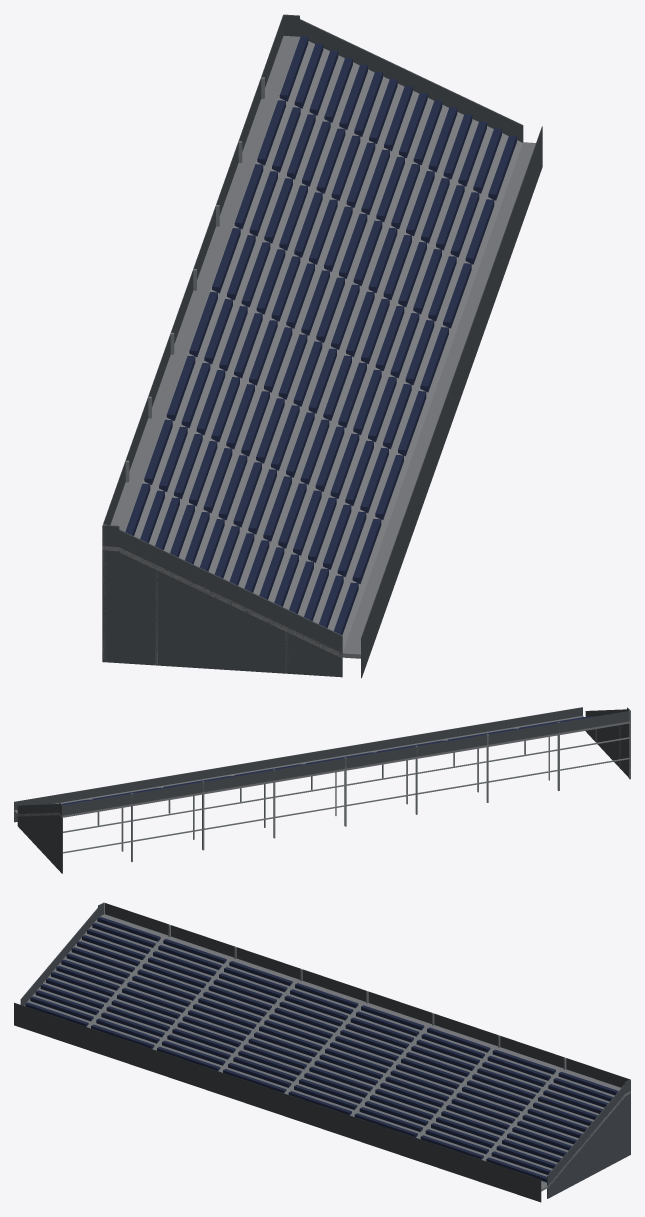
The model's file is sil_stand_hamilton_b1.glb.
The picture shows the model from 3 angles, top to bottom: view 1: azimuth 30°, elevation 25°; view 2: azimuth 150°, elevation 25°; view 3: azimuth 270°, elevation 25°; orthographic projection. The views are drawn at different scales.
Visible parts, largest first — view 1: silverstone-hamilton-b1; view 2: silverstone-hamilton-b1; view 3: silverstone-hamilton-b1.
Boxes of the visible parts, box(x1,y1,x2,y2) form: silverstone-hamilton-b1: box(102, 14, 542, 678); silverstone-hamilton-b1: box(14, 707, 630, 873); silverstone-hamilton-b1: box(14, 902, 630, 1202).
Size of the model in its own units: 51.36 by 8 by 59.53.
